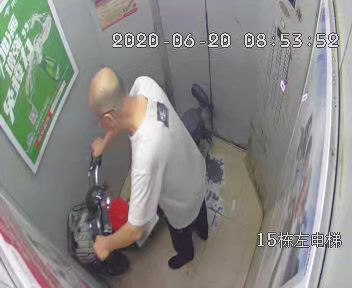Electric-bicycle: (68, 81, 209, 266)
